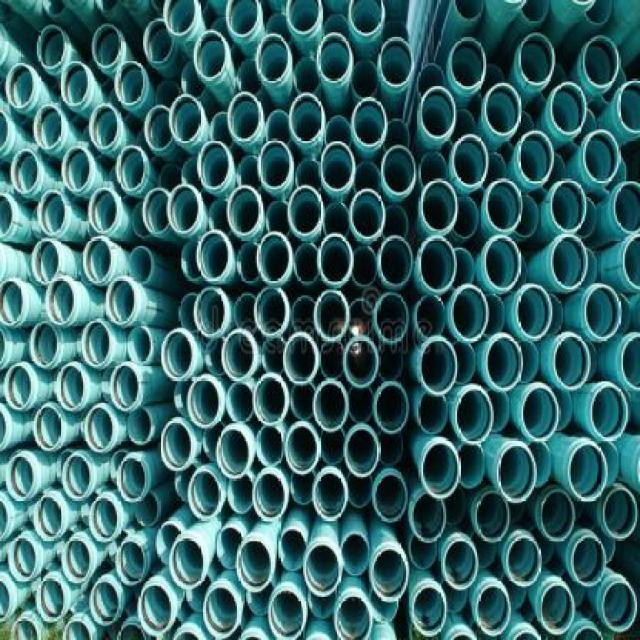pipe: (568, 443, 608, 502), (497, 445, 537, 503), (451, 285, 490, 342), (552, 333, 591, 390), (420, 339, 458, 396), (455, 388, 493, 445), (422, 443, 460, 500), (590, 386, 629, 441), (551, 233, 588, 290), (303, 543, 342, 597), (584, 128, 621, 184), (484, 235, 521, 291), (516, 284, 553, 340), (486, 335, 523, 391), (522, 386, 559, 442), (585, 284, 621, 341), (419, 238, 456, 293), (518, 131, 555, 185), (452, 134, 489, 188), (486, 178, 523, 232), (372, 549, 409, 603), (518, 32, 555, 86), (203, 586, 240, 640), (485, 82, 522, 136), (550, 179, 587, 232), (421, 181, 458, 234), (343, 336, 380, 389), (583, 35, 620, 88), (449, 36, 486, 89), (551, 82, 588, 135), (420, 87, 457, 140), (236, 539, 272, 593), (287, 185, 323, 238), (314, 289, 350, 342), (373, 292, 409, 345), (313, 380, 349, 433), (603, 488, 639, 541), (540, 490, 576, 543), (571, 535, 607, 588), (539, 583, 575, 636), (138, 584, 174, 637), (476, 585, 512, 638), (378, 37, 414, 90), (318, 234, 353, 287), (350, 189, 386, 240), (254, 288, 290, 339), (284, 332, 318, 386), (506, 536, 542, 587), (443, 539, 479, 590), (601, 581, 637, 632), (268, 589, 304, 640), (476, 491, 510, 544), (193, 29, 227, 82), (170, 537, 204, 590), (412, 585, 446, 638), (320, 141, 355, 192), (352, 97, 386, 148), (257, 139, 291, 190), (197, 141, 231, 192), (379, 237, 413, 288), (285, 425, 319, 476), (346, 427, 380, 478), (216, 429, 250, 480), (316, 33, 350, 84), (256, 33, 290, 84), (227, 91, 261, 142), (289, 93, 323, 144), (168, 93, 202, 144), (161, 330, 194, 381), (188, 470, 221, 521), (253, 472, 286, 523), (382, 147, 416, 196), (253, 377, 287, 426), (186, 379, 220, 428), (375, 385, 409, 434), (221, 332, 255, 380), (312, 472, 346, 520), (412, 494, 446, 542), (167, 185, 200, 234), (228, 186, 261, 235), (257, 233, 290, 282), (159, 422, 192, 471), (334, 596, 371, 639), (198, 232, 231, 280), (193, 288, 226, 336), (375, 474, 408, 522), (106, 277, 137, 325), (45, 278, 76, 326), (143, 18, 174, 66), (89, 580, 120, 626), (115, 60, 146, 106), (116, 540, 147, 585), (144, 105, 173, 153), (117, 145, 146, 193), (89, 187, 118, 235), (83, 237, 112, 285), (81, 320, 110, 368), (110, 364, 139, 412), (613, 181, 639, 234), (348, 0, 385, 37), (57, 364, 85, 412), (62, 146, 91, 192), (10, 149, 39, 195), (31, 238, 60, 284), (30, 322, 59, 368), (33, 406, 62, 452), (33, 496, 62, 542), (62, 538, 91, 584), (60, 61, 89, 107), (6, 63, 35, 109), (33, 105, 62, 150), (89, 105, 118, 150), (37, 191, 66, 236), (92, 23, 121, 68), (37, 25, 66, 70), (62, 455, 91, 500), (6, 455, 35, 500), (117, 457, 146, 502), (89, 497, 118, 542), (9, 537, 38, 582), (37, 578, 66, 623), (418, 392, 449, 434), (142, 190, 170, 236), (5, 364, 33, 410), (85, 407, 113, 453), (458, 444, 486, 489), (226, 0, 260, 37), (417, 295, 446, 338), (617, 78, 639, 134), (286, 0, 321, 35), (342, 533, 370, 576), (0, 280, 25, 328), (163, 0, 197, 35), (255, 425, 283, 467), (279, 528, 307, 570), (528, 443, 553, 489), (514, 195, 539, 240), (226, 383, 254, 423), (351, 59, 379, 99), (477, 63, 505, 103), (217, 526, 243, 569), (449, 108, 477, 147), (228, 473, 254, 515), (293, 56, 321, 95), (181, 61, 209, 100), (621, 333, 640, 390), (454, 196, 479, 239), (294, 243, 319, 285), (452, 343, 477, 385), (156, 524, 181, 566), (247, 581, 276, 617), (417, 64, 446, 100), (480, 151, 506, 191), (483, 293, 506, 338), (487, 389, 510, 434), (509, 111, 535, 150), (236, 154, 262, 193), (348, 298, 374, 337), (186, 573, 212, 612), (420, 152, 448, 188), (409, 535, 437, 571), (542, 153, 567, 193), (236, 243, 261, 283), (352, 246, 377, 286), (452, 248, 475, 291), (370, 589, 399, 623), (292, 295, 317, 334), (319, 341, 344, 380), (210, 113, 236, 150), (237, 59, 263, 96), (382, 119, 410, 153), (623, 235, 640, 291), (266, 110, 292, 146), (377, 431, 403, 467), (266, 199, 291, 236), (128, 246, 153, 283), (127, 327, 152, 364), (290, 383, 315, 420), (127, 407, 152, 444), (471, 532, 496, 569), (517, 341, 539, 383), (175, 463, 198, 503), (323, 202, 349, 237), (348, 387, 374, 422), (320, 430, 346, 465), (261, 338, 286, 374), (378, 345, 403, 381), (553, 386, 573, 431), (348, 472, 373, 508), (134, 491, 159, 527), (182, 156, 205, 195), (234, 294, 257, 333), (290, 471, 316, 505), (575, 198, 597, 238), (383, 204, 408, 239), (203, 422, 226, 460), (325, 116, 353, 147), (296, 158, 322, 191), (353, 160, 379, 193), (266, 12, 292, 45), (209, 199, 232, 236), (205, 339, 228, 376), (307, 590, 336, 619), (181, 240, 202, 280), (322, 14, 350, 43), (132, 200, 152, 239), (520, 0, 551, 25), (178, 293, 197, 333), (585, 0, 614, 26), (158, 163, 181, 194), (109, 450, 128, 486), (454, 0, 485, 22), (155, 80, 181, 106), (10, 617, 39, 639), (0, 193, 14, 238), (62, 620, 93, 639), (0, 110, 9, 153)
